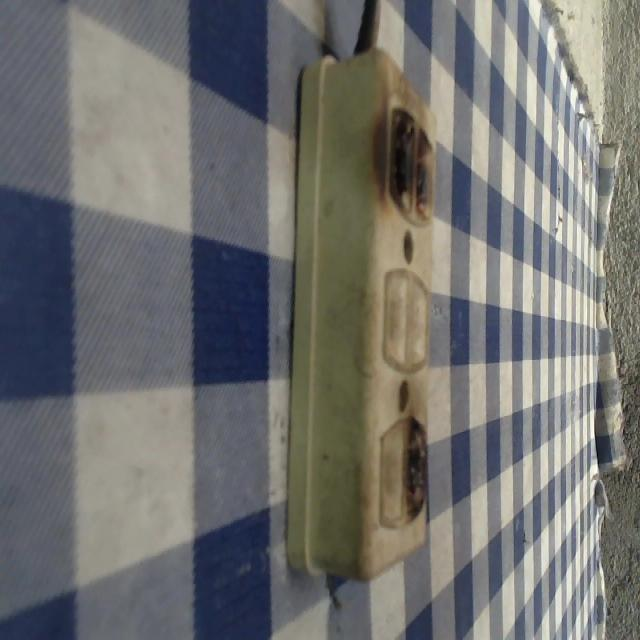-: (368, 96, 438, 229), (400, 412, 432, 525)
